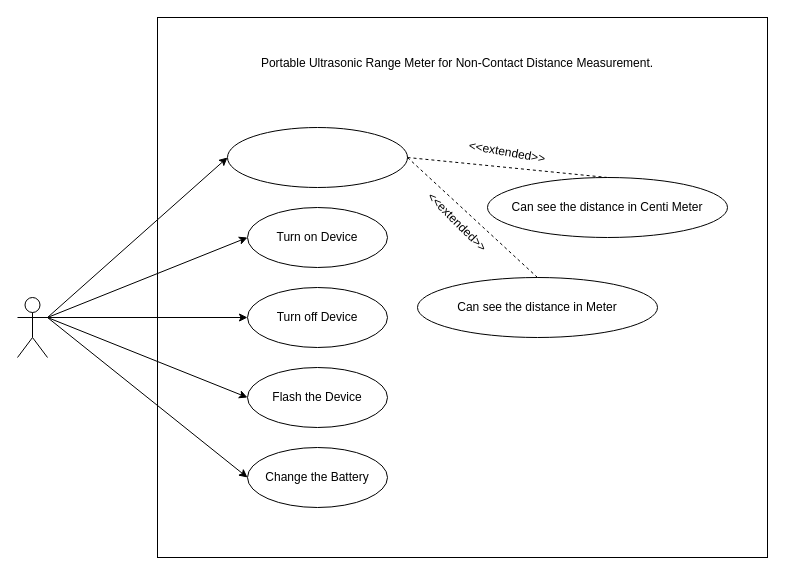
Image size: 785x575. Some labels were removed from this diagram. The centre of each missing label's shape, as x and y in pixels:
"Actor" belongs at [32,327].
"Distance Measurement" belongs at [317,157].
